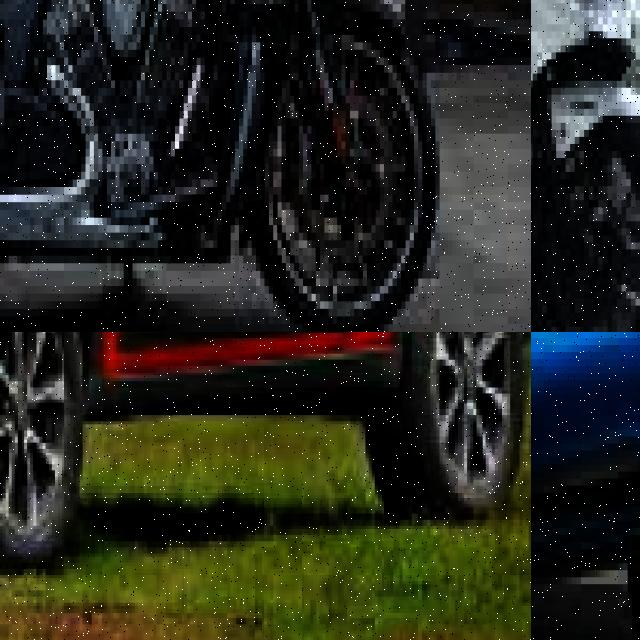bike: (0, 0, 452, 332), (531, 0, 640, 332)
car: (0, 332, 531, 596), (531, 332, 640, 640)
